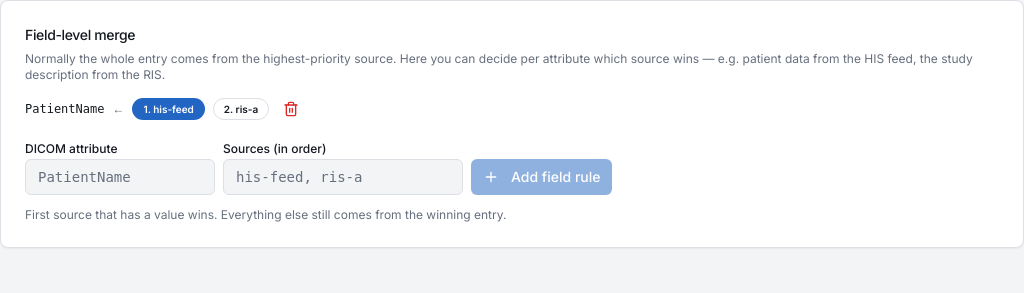
MergeRulesCard › shows the server message when a tag or source is refused
Check: the list with test id "merge-rules-list" is shown, box [25, 95, 305, 123]
Type "NotATag" into the field labelled "DICOM attribute" at (120, 177), box [25, 159, 215, 195]
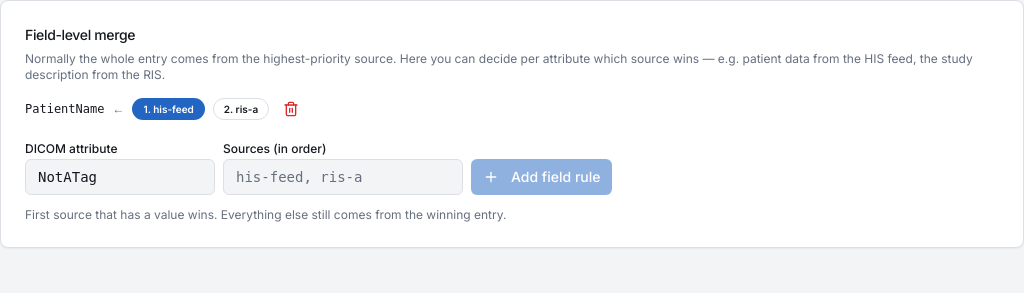
Type "ris-a" into the field labelled "Sources (in order)" at (343, 177), box [223, 159, 463, 195]
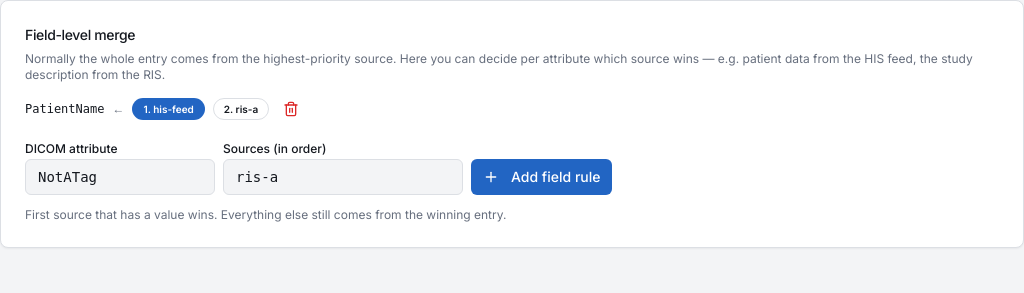
Click the button "Add field rule" at (542, 177), box [471, 159, 612, 195]
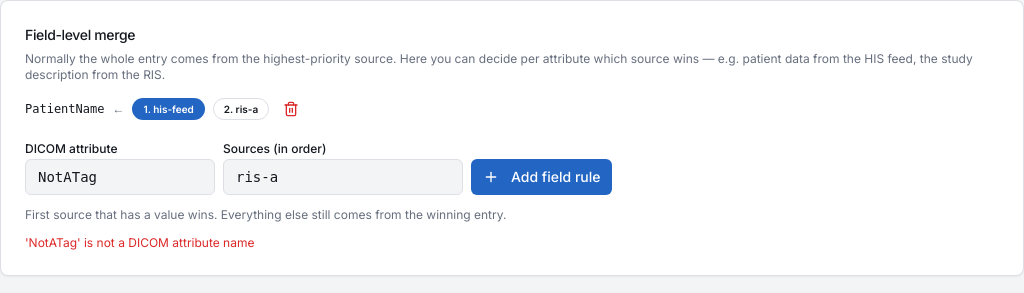
Check: the message shows "not a DICOM attribute", box [25, 235, 254, 250]
